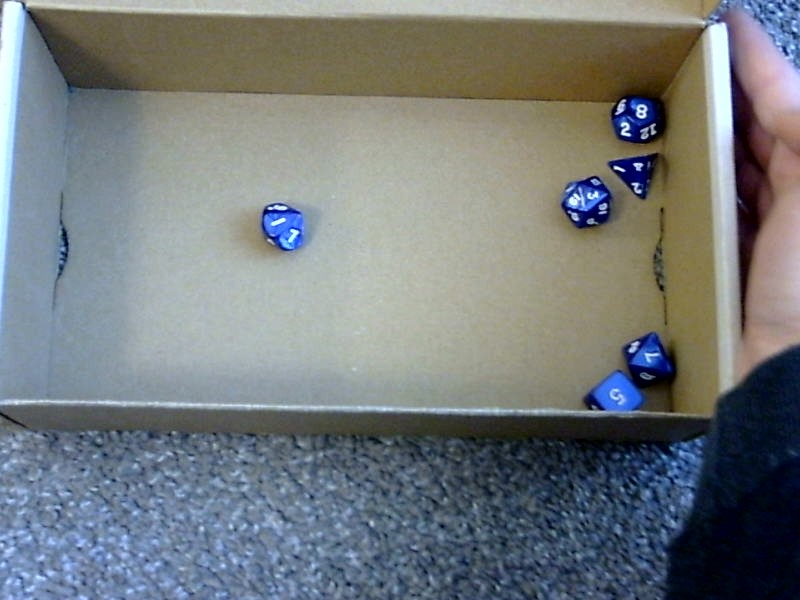d10 1: (256, 197, 307, 253)
d12 8: (606, 89, 666, 144)
d20 3: (557, 173, 613, 229)
d4 4: (607, 148, 661, 200)
d6 5: (579, 368, 644, 420)
d8 7: (622, 330, 675, 386)
